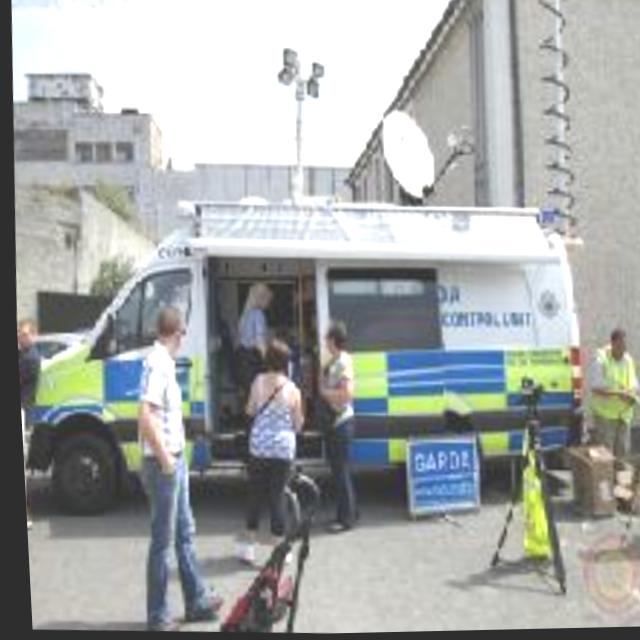emergency: (7, 155, 620, 506)
